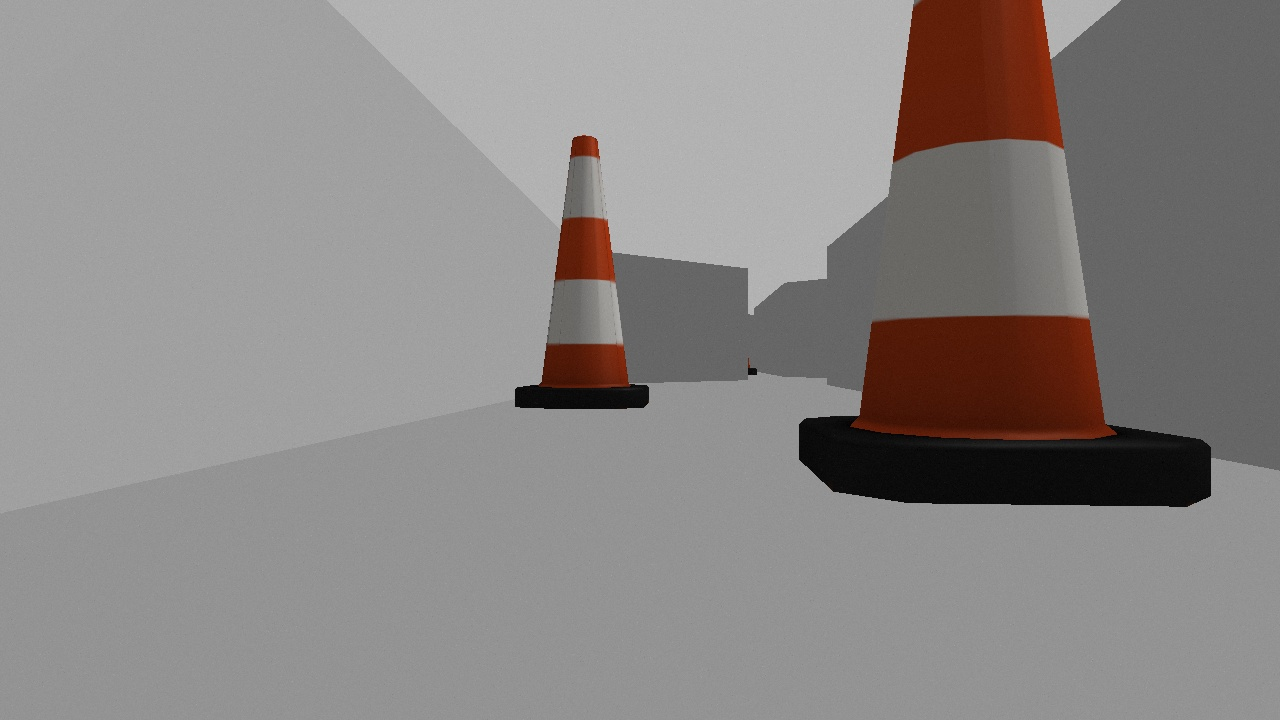barricade: (797, 1, 1210, 507), (514, 135, 648, 410)
